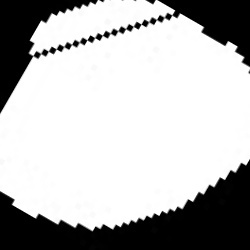spot: (1, 3, 248, 231)
